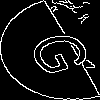G: (25, 25, 100, 79)
